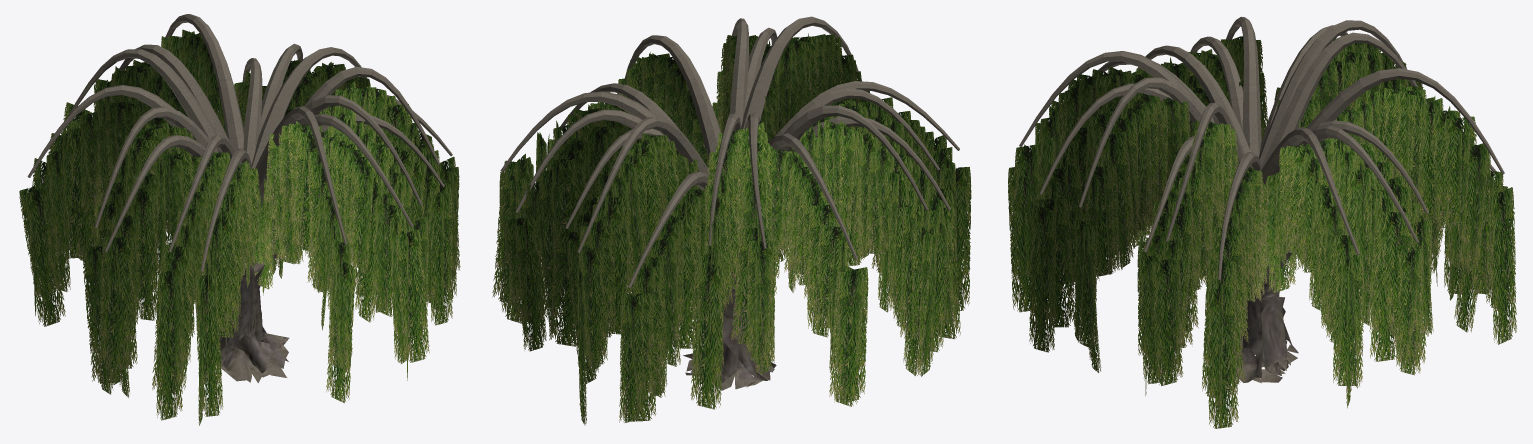
Rendered from tree_willow.glb.
3 renders of one model, left to right at view 1: azimuth 30°, elevation 25°; view 2: azimuth 150°, elevation 25°; view 3: azimuth 270°, elevation 25°, orthographic. The views are drawn at different scales.
Visible parts, largest first — view 1: Willow_Whips, Willow_Branches, Mesh_0; view 2: Willow_Whips, Willow_Branches, Mesh_0; view 3: Willow_Whips, Willow_Branches, Mesh_0.
Part boxes in pixels (<box>): Willow_Whips: <box>19,29,460,425</box>; Willow_Branches: <box>27,14,452,270</box>; Mesh_0: <box>210,240,289,383</box>; Willow_Whips: <box>492,33,971,425</box>; Willow_Branches: <box>500,16,959,287</box>; Mesh_0: <box>683,253,776,390</box>; Willow_Whips: <box>1008,36,1516,428</box>; Willow_Branches: <box>1019,16,1504,279</box>; Mesh_0: <box>1202,248,1298,383</box>.
Size of the model in its own units: 8.67 by 6.54 by 9.55.
2 materials, 2 textured.
